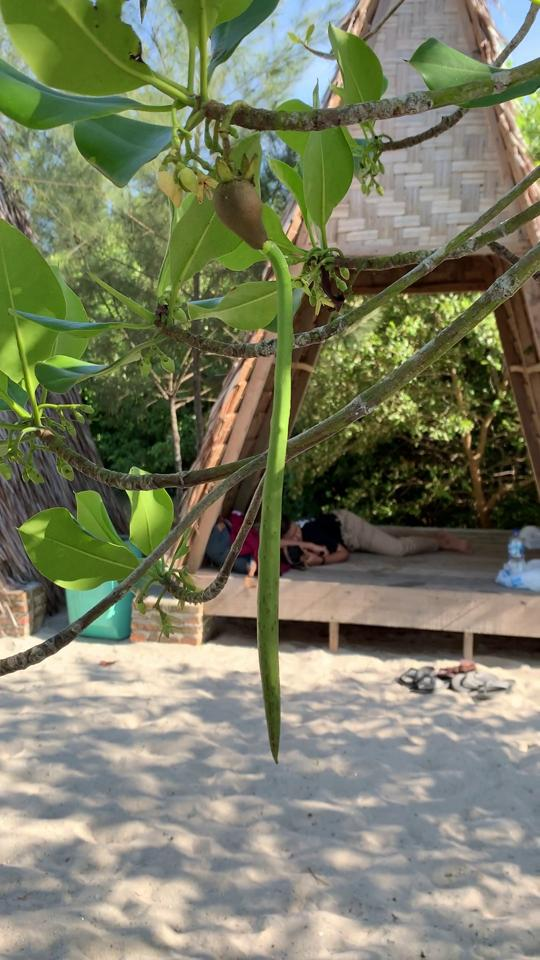setengah matang: (209, 162, 312, 774)
